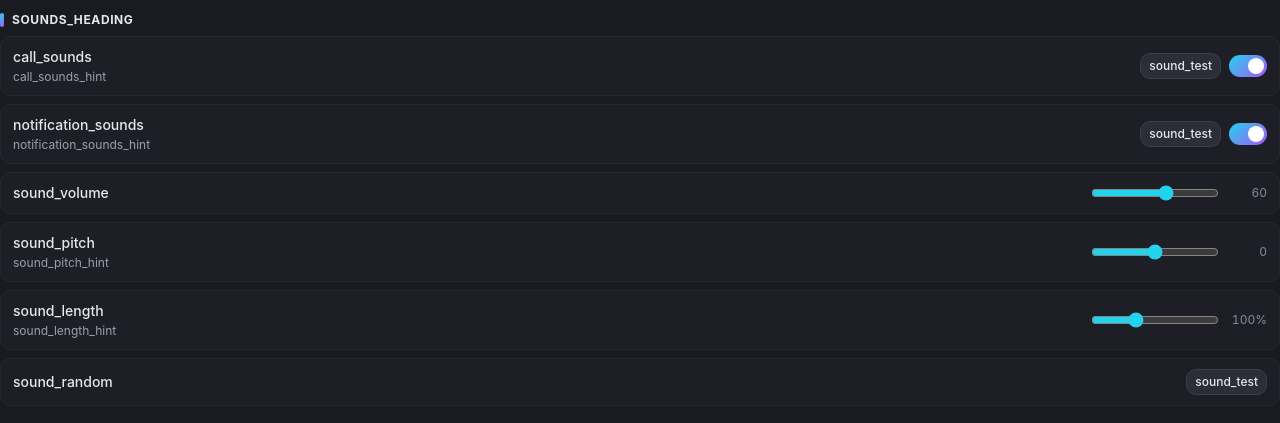
Scenario: SoundsSection › changes the length as a percentage
The width and height of the screenshot is (1280, 423).
Set the slider with test id "sounds-length" to "150": (1174, 320) [1091,312,1219,328]
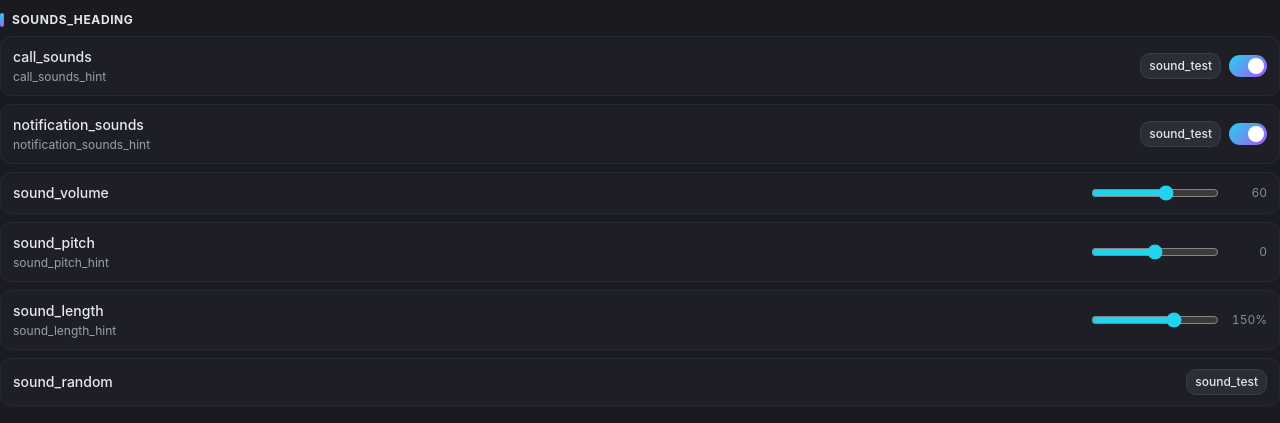
Expected: the text with test id "sounds-length-value" reads "150%", [1232,312,1267,327]
